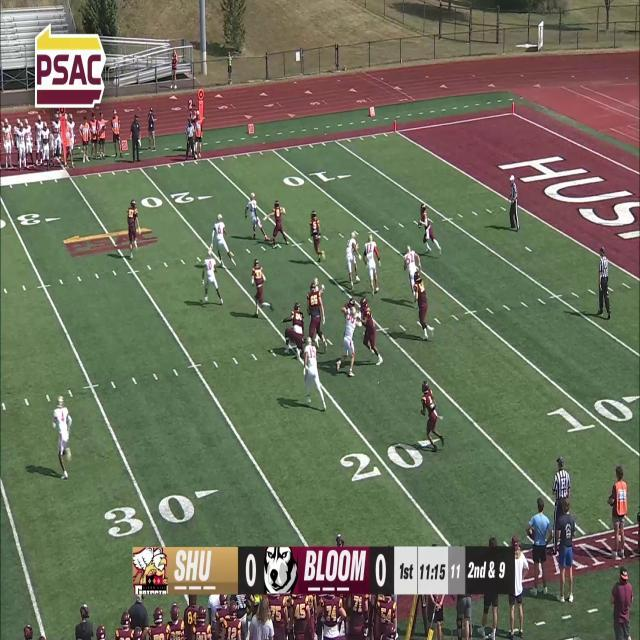football: (418, 219, 421, 229)
